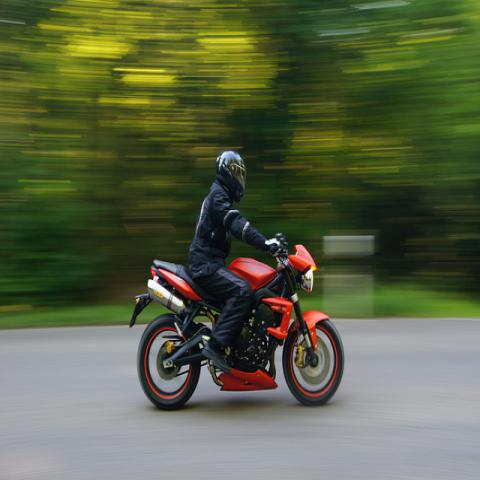motorcycle: (129, 233, 344, 411)
